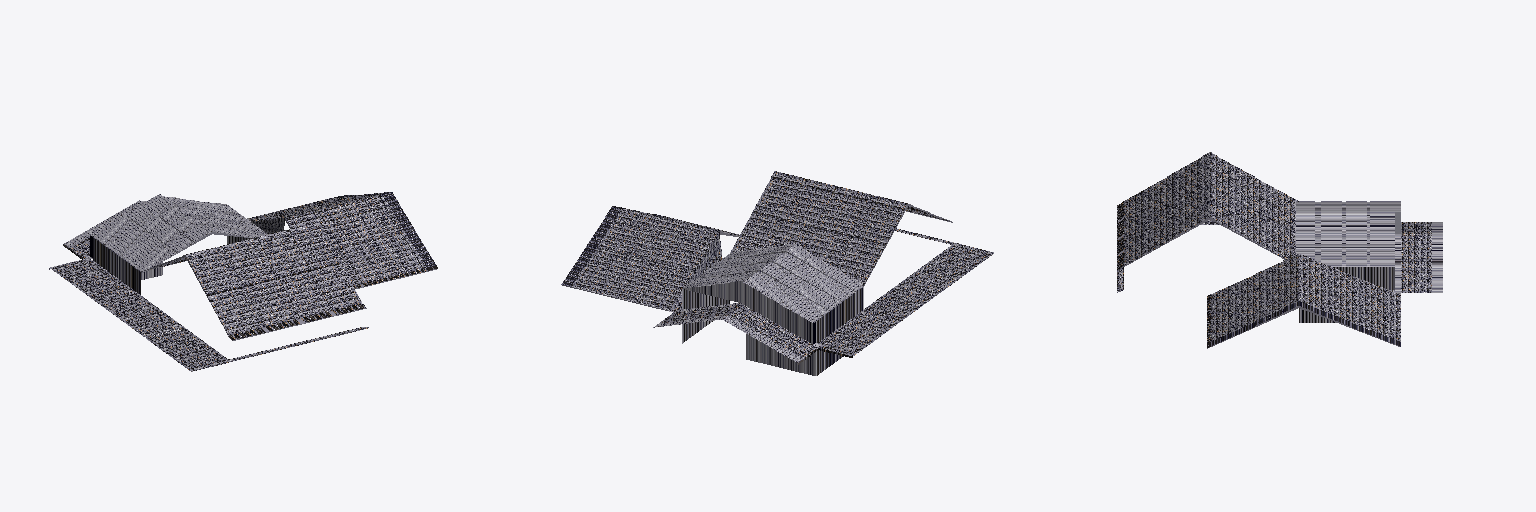
3 views of the same model, side by side, from view 1: azimuth 30°, elevation 25°; view 2: azimuth 150°, elevation 25°; view 3: azimuth 270°, elevation 25° (orthographic).
Visible parts, largest first — view 1: MH1_OBJ_05.003_MH1_OBJ_05.004; view 2: MH1_OBJ_05.003_MH1_OBJ_05.004; view 3: MH1_OBJ_05.003_MH1_OBJ_05.004.
Boxes of the visible parts, <box> form: MH1_OBJ_05.003_MH1_OBJ_05.004: <box>49,192,437,371</box>; MH1_OBJ_05.003_MH1_OBJ_05.004: <box>561,171,993,375</box>; MH1_OBJ_05.003_MH1_OBJ_05.004: <box>1117,152,1442,348</box>.
Bounding box in the file's own units: 21.72 × 7.48 × 20.96.
Materials: 1 (1 with a texture image).